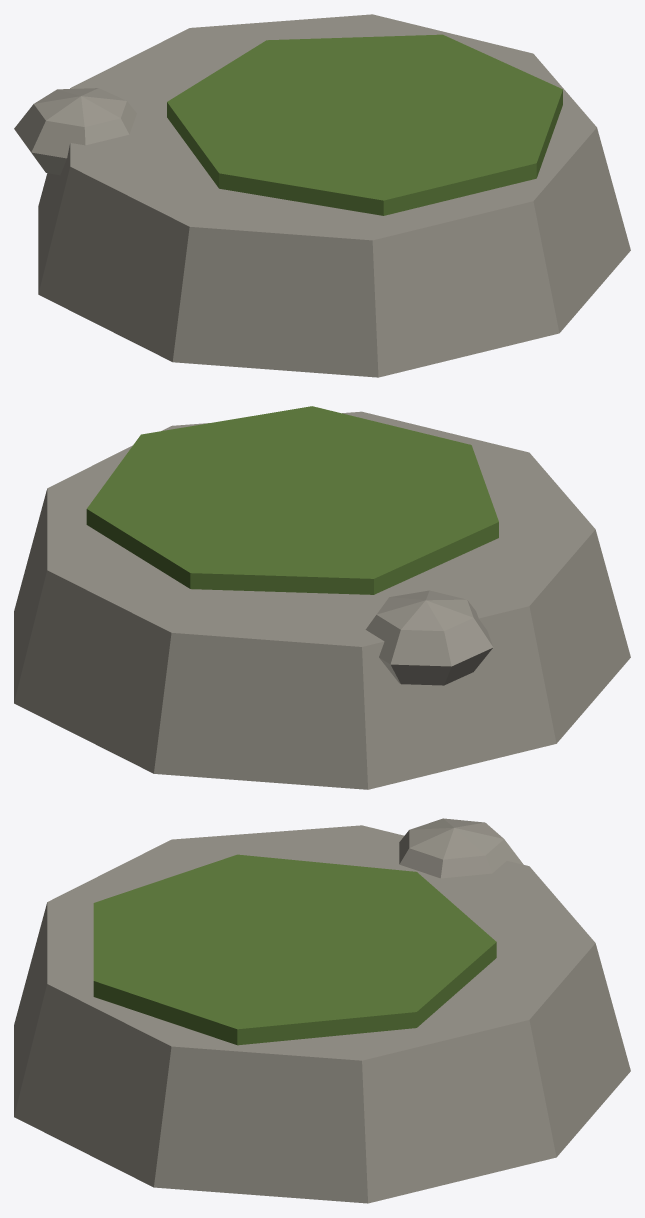
Rendered from stepping-stone-lod1.glb.
The picture shows the model from 3 angles, top to bottom: view 1: azimuth 30°, elevation 25°; view 2: azimuth 150°, elevation 25°; view 3: azimuth 270°, elevation 25°; orthographic projection. The views are drawn at different scales.
Visible parts, largest first — view 1: stepping-stone; view 2: stepping-stone; view 3: stepping-stone.
Part boxes in pixels (x1,y1,x2,y2): stepping-stone: [14, 14, 630, 377]; stepping-stone: [14, 406, 630, 789]; stepping-stone: [14, 818, 630, 1203].
Size of the model in its own units: 0.8863 by 0.24 by 0.8729.
